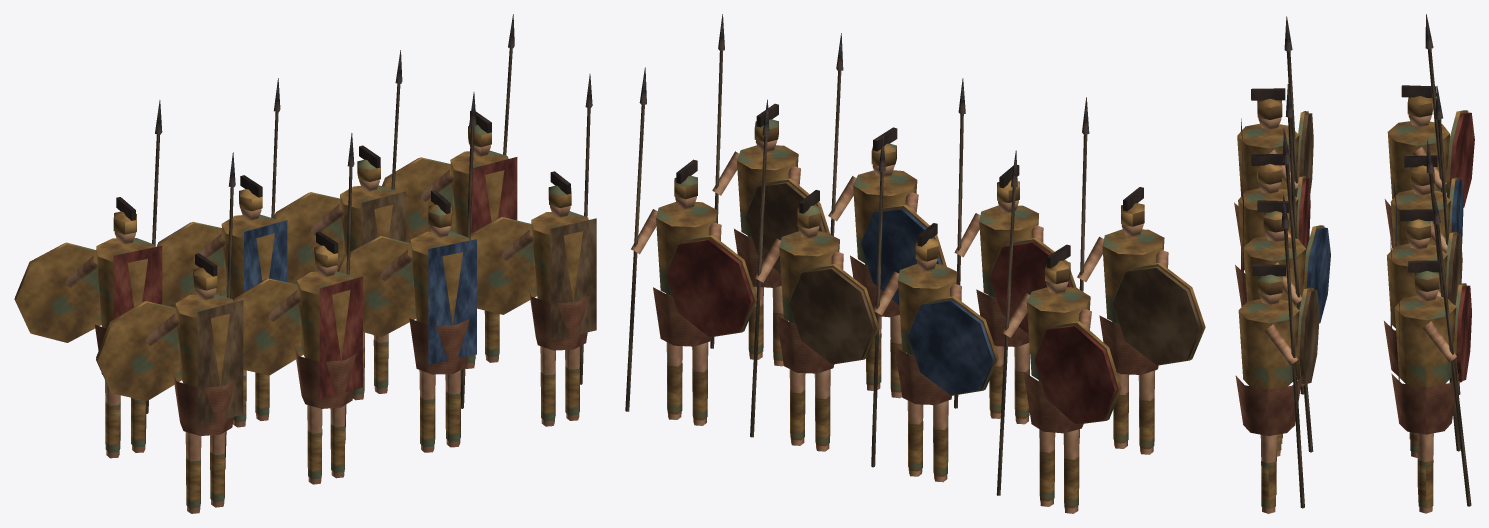
File: opliti_schieramento.gltf
3 views of the same model, side by side, from view 1: azimuth 30°, elevation 25°; view 2: azimuth 150°, elevation 25°; view 3: azimuth 270°, elevation 25° (orthographic). The views are drawn at different scales.
Visible parts, largest first — view 1: opliti_schieramento; view 2: opliti_schieramento; view 3: opliti_schieramento.
Boxes of the visible parts, box(x1,y1,x2,y2) form: opliti_schieramento: box(14, 14, 596, 513); opliti_schieramento: box(625, 14, 1205, 513); opliti_schieramento: box(1234, 14, 1474, 513).
Bounding box in the file's own units: 3.59 × 2.43 × 1.56.
9 materials, 9 textured.
